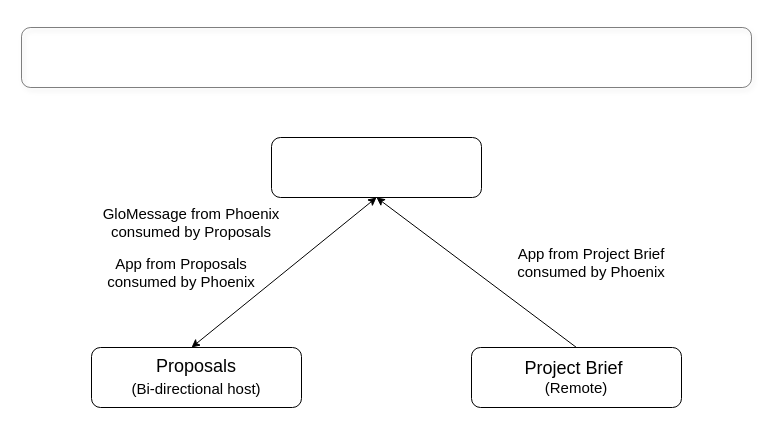
The diagram is 775 pixels wide and 425 high, and some of its shapes have lost their labels. Each missing label, with the centre of its shape:
3 apps running on different servers but on a single instance of react/react-dom: (x=387, y=58)
Phoenix Demo (Bi-directional host): (x=376, y=167)
